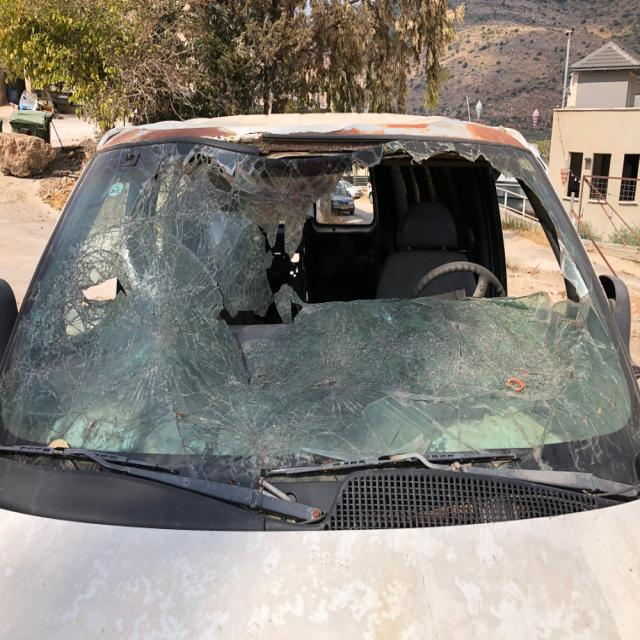Windshield: (34, 153, 602, 444)
